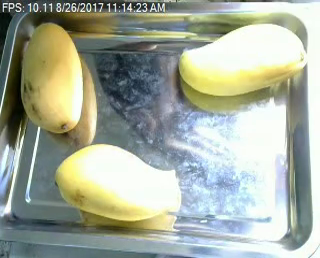Mango: (53, 142, 181, 219), (177, 22, 308, 96), (21, 23, 84, 133)
